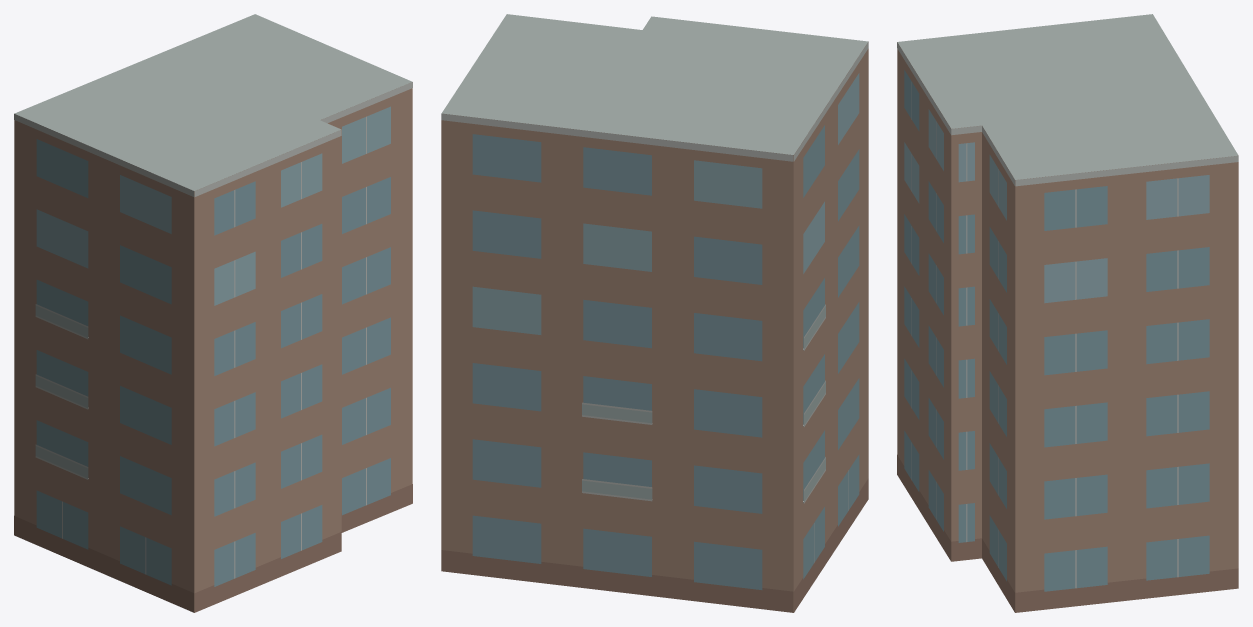
The model's file is survey-upis-32648402.glb.
The picture shows the model from 3 angles, left to right: view 1: azimuth 30°, elevation 25°; view 2: azimuth 150°, elevation 25°; view 3: azimuth 270°, elevation 25°; orthographic projection. The views are drawn at different scales.
Parts seen in each view (by area): view 1: survey-upis-32648402.tmp; view 2: survey-upis-32648402.tmp; view 3: survey-upis-32648402.tmp.
Part boxes in pixels (x1,y1,x2,y2): survey-upis-32648402.tmp: (14, 14, 412, 612); survey-upis-32648402.tmp: (441, 14, 868, 612); survey-upis-32648402.tmp: (897, 14, 1238, 612).
Size of the model in its own units: 13.67 by 16.6 by 11.88.
